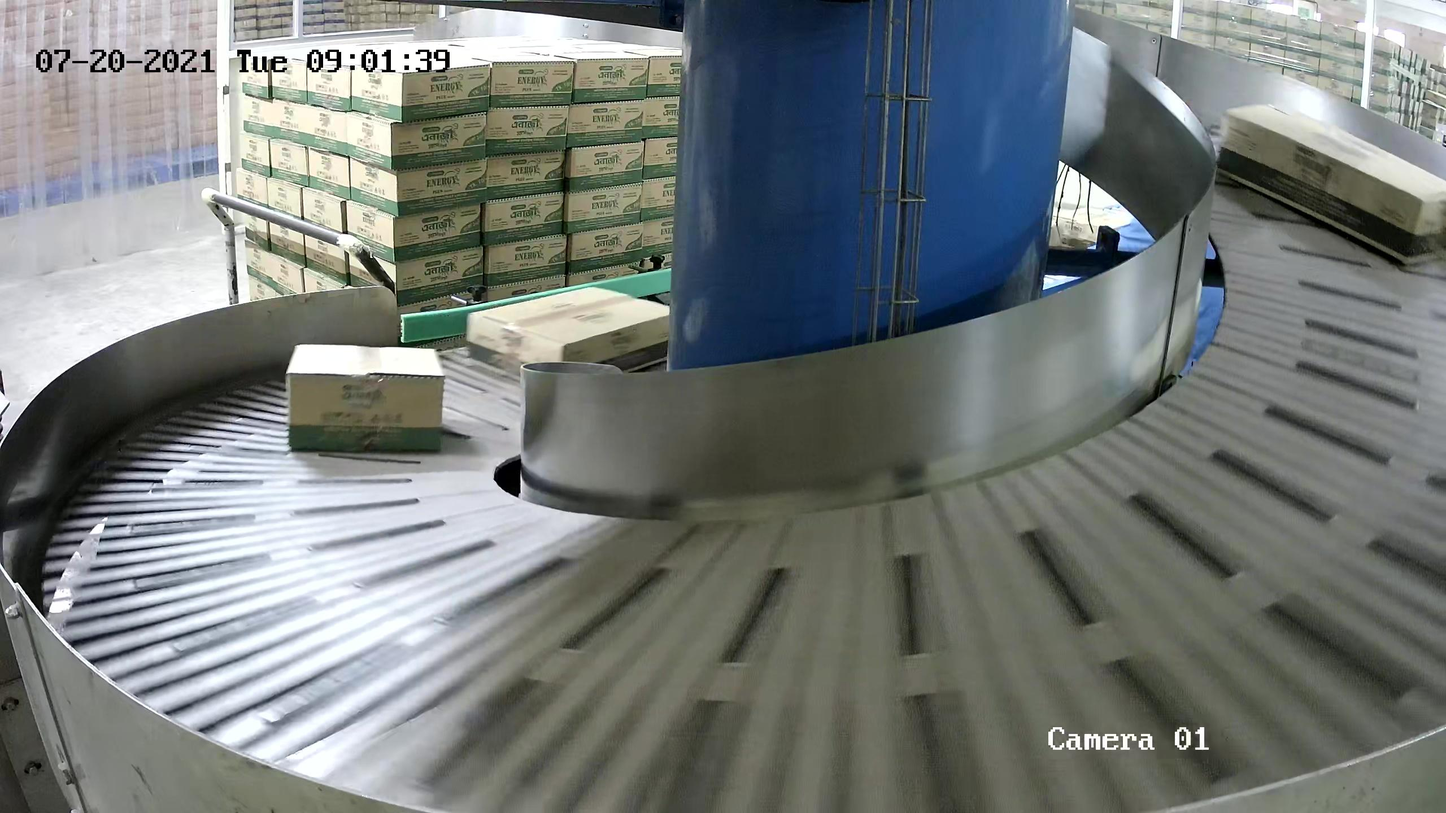Box: (1213, 103, 1446, 269), (468, 284, 689, 396), (285, 341, 447, 458)
